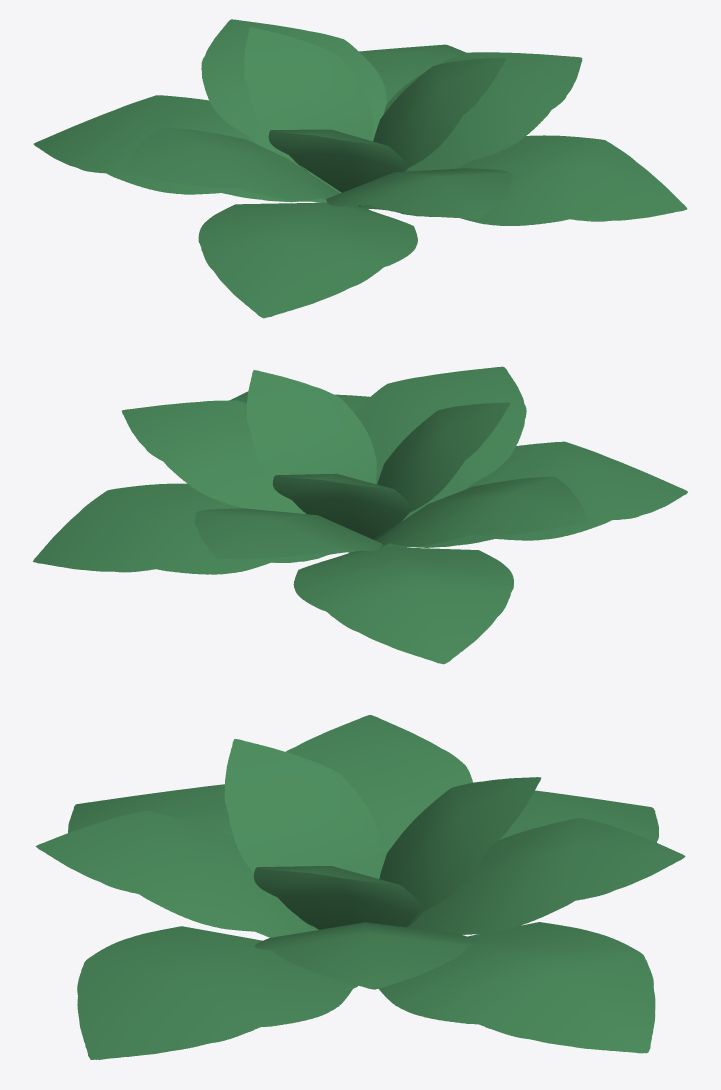
The model's file is LeafPlant1.fbx.
3 renders of one model, top to bottom at view 1: azimuth 30°, elevation 25°; view 2: azimuth 150°, elevation 25°; view 3: azimuth 270°, elevation 25°, orthographic. The views are drawn at different scales.
Visible parts, largest first — view 1: Leaf Plant 1; view 2: Leaf Plant 1; view 3: Leaf Plant 1.
Boxes of the visible parts, x1,y1,x2,y2 form: Leaf Plant 1: (33, 19, 687, 318); Leaf Plant 1: (33, 366, 687, 664); Leaf Plant 1: (35, 715, 685, 1059).
Bounding box in the file's own units: 83.16 × 24 × 83.18.
